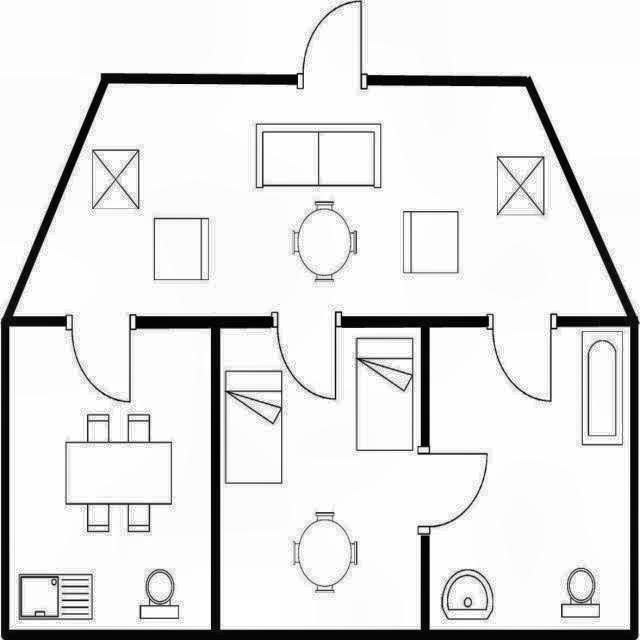room: (13, 83, 628, 316), (9, 329, 211, 630), (220, 328, 421, 630), (430, 327, 630, 630)
